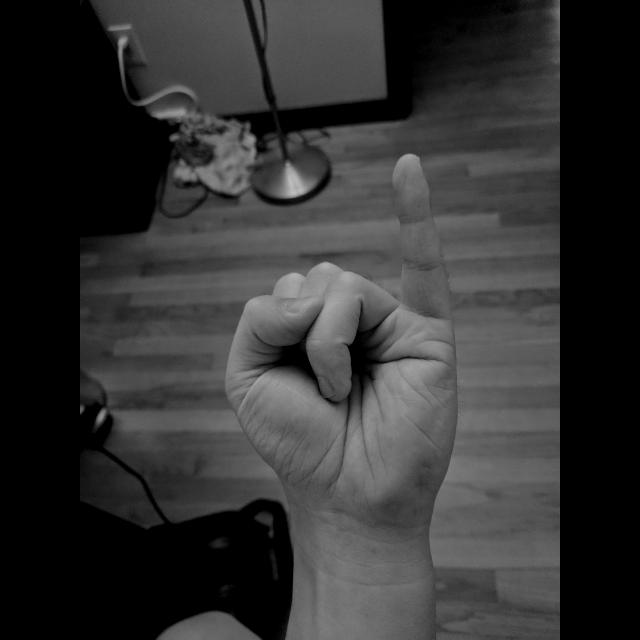I: (219, 147, 465, 538)
